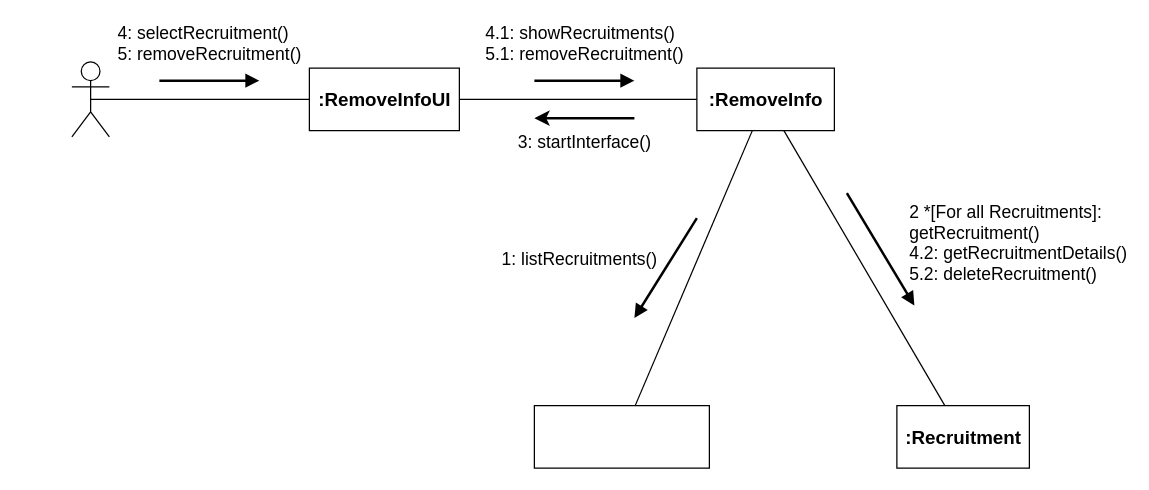
The diagram is 1149 pixels wide and 490 high, and some of its shapes have lost their labels. The box of each missing label's shape, as (x1, y1, x2, y2) in pixels:
:CompanyMember: (533, 404, 709, 468)
CompanyMember: (71, 61, 109, 137)
